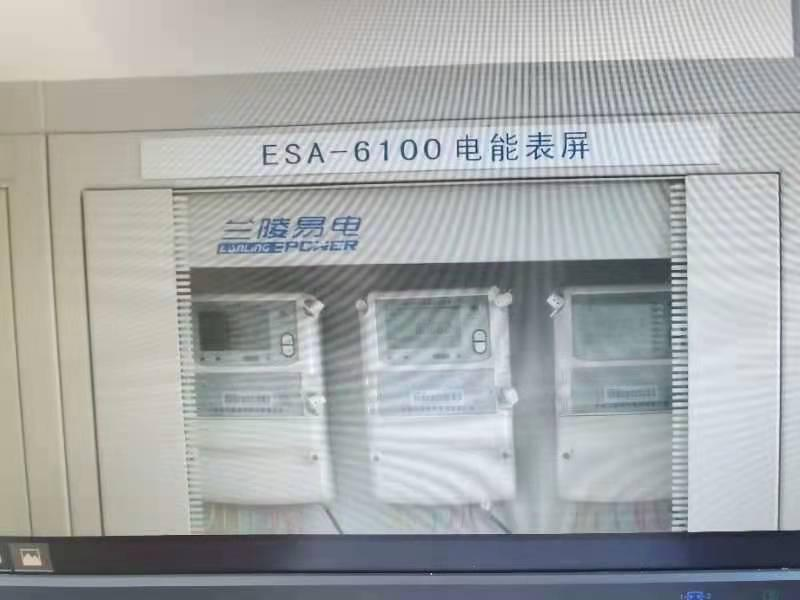digital: (361, 288, 516, 504), (192, 296, 324, 503), (555, 286, 671, 502)
